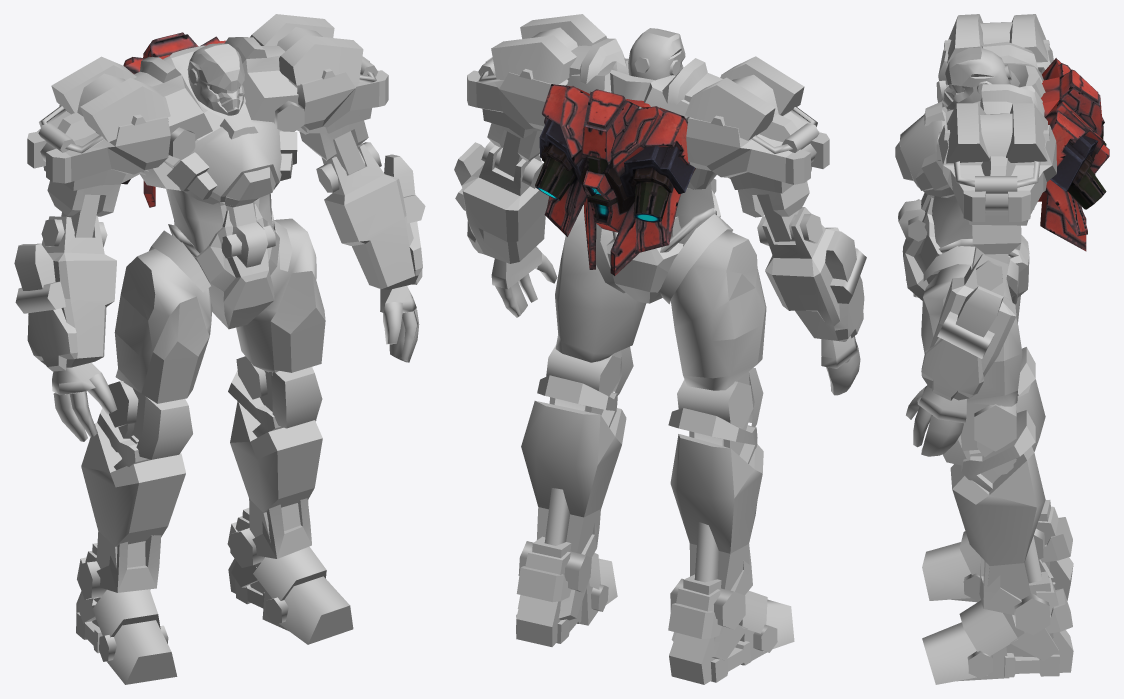
3 views of the same model, side by side, from view 1: azimuth 30°, elevation 25°; view 2: azimuth 150°, elevation 25°; view 3: azimuth 270°, elevation 25° (orthographic). The views are drawn at different scales.
Visible parts, largest first — view 1: PC_AM_Leg_01, PC_AM_Arm_01, PC_AM_Body_01, PC_AM_Helmet_01, PC_AM_Power_01; view 2: PC_AM_Leg_01, PC_AM_Arm_01, PC_AM_Power_01, PC_AM_Body_01, PC_AM_Helmet_01; view 3: PC_AM_Leg_01, PC_AM_Arm_01, PC_AM_Body_01, PC_AM_Power_01, PC_AM_Helmet_01.
Boxes of the visible parts, <box> form: PC_AM_Leg_01: <box>76,218,353,684</box>; PC_AM_Arm_01: <box>14,14,425,441</box>; PC_AM_Body_01: <box>134,37,304,329</box>; PC_AM_Helmet_01: <box>187,43,244,115</box>; PC_AM_Power_01: <box>121,32,225,207</box>; PC_AM_Leg_01: <box>516,206,794,684</box>; PC_AM_Arm_01: <box>454,14,866,395</box>; PC_AM_Power_01: <box>535,84,695,275</box>; PC_AM_Body_01: <box>566,38,732,304</box>; PC_AM_Helmet_01: <box>628,28,685,80</box>; PC_AM_Leg_01: <box>921,264,1073,684</box>; PC_AM_Arm_01: <box>906,14,1056,456</box>; PC_AM_Body_01: <box>895,41,1045,304</box>; PC_AM_Power_01: <box>1038,58,1109,251</box>; PC_AM_Helmet_01: <box>942,47,1011,109</box>.
Size of the model in its own units: 8.42 by 12.1 by 4.06.
